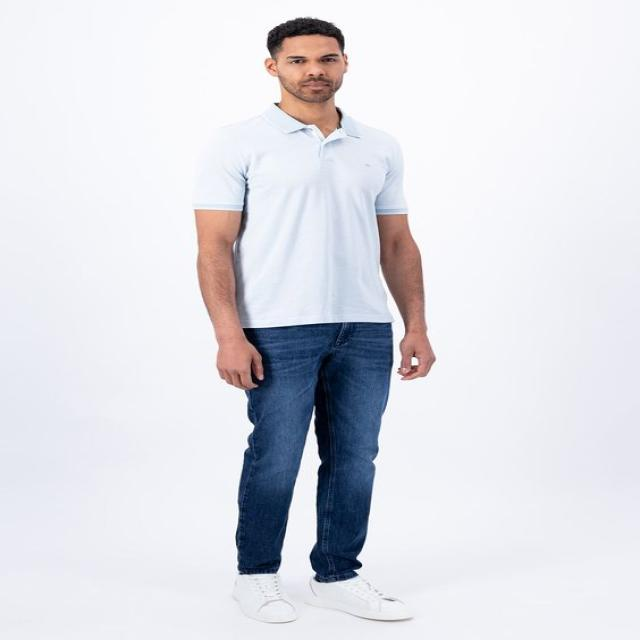shoulder: (198, 121, 404, 169)
